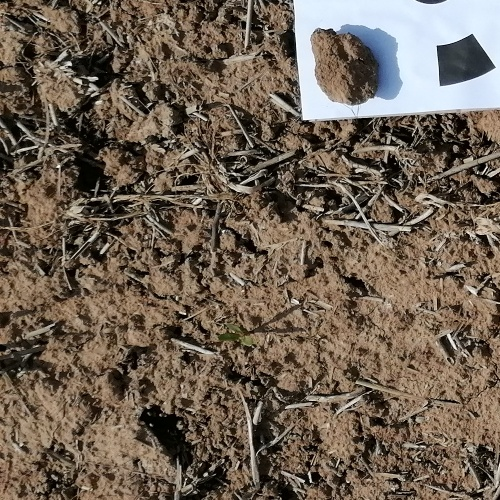beet: (219, 322, 256, 349)
